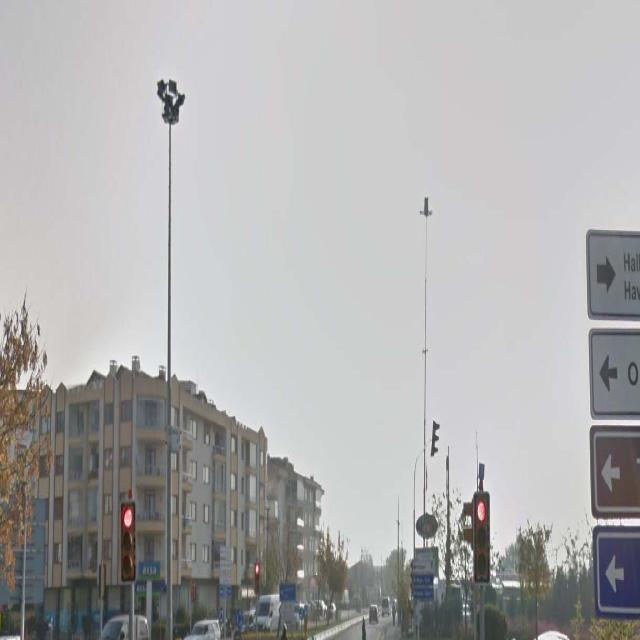kirmizi: (474, 491, 490, 584), (121, 501, 135, 581)
